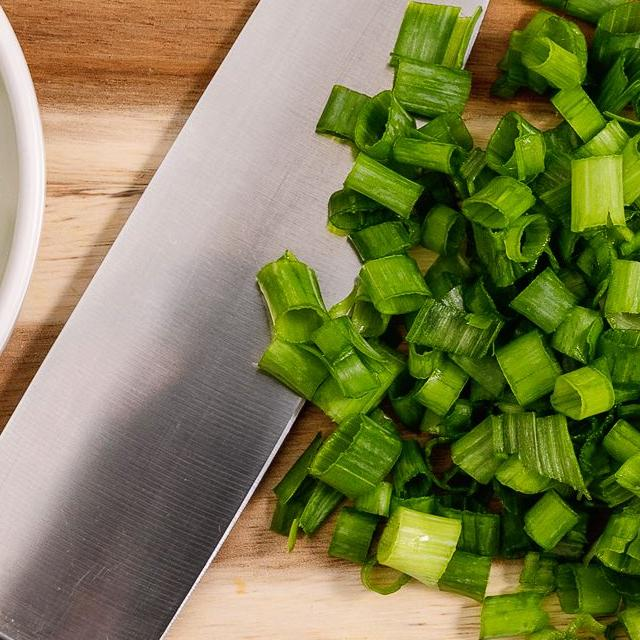green_onion: (251, 0, 640, 640)
